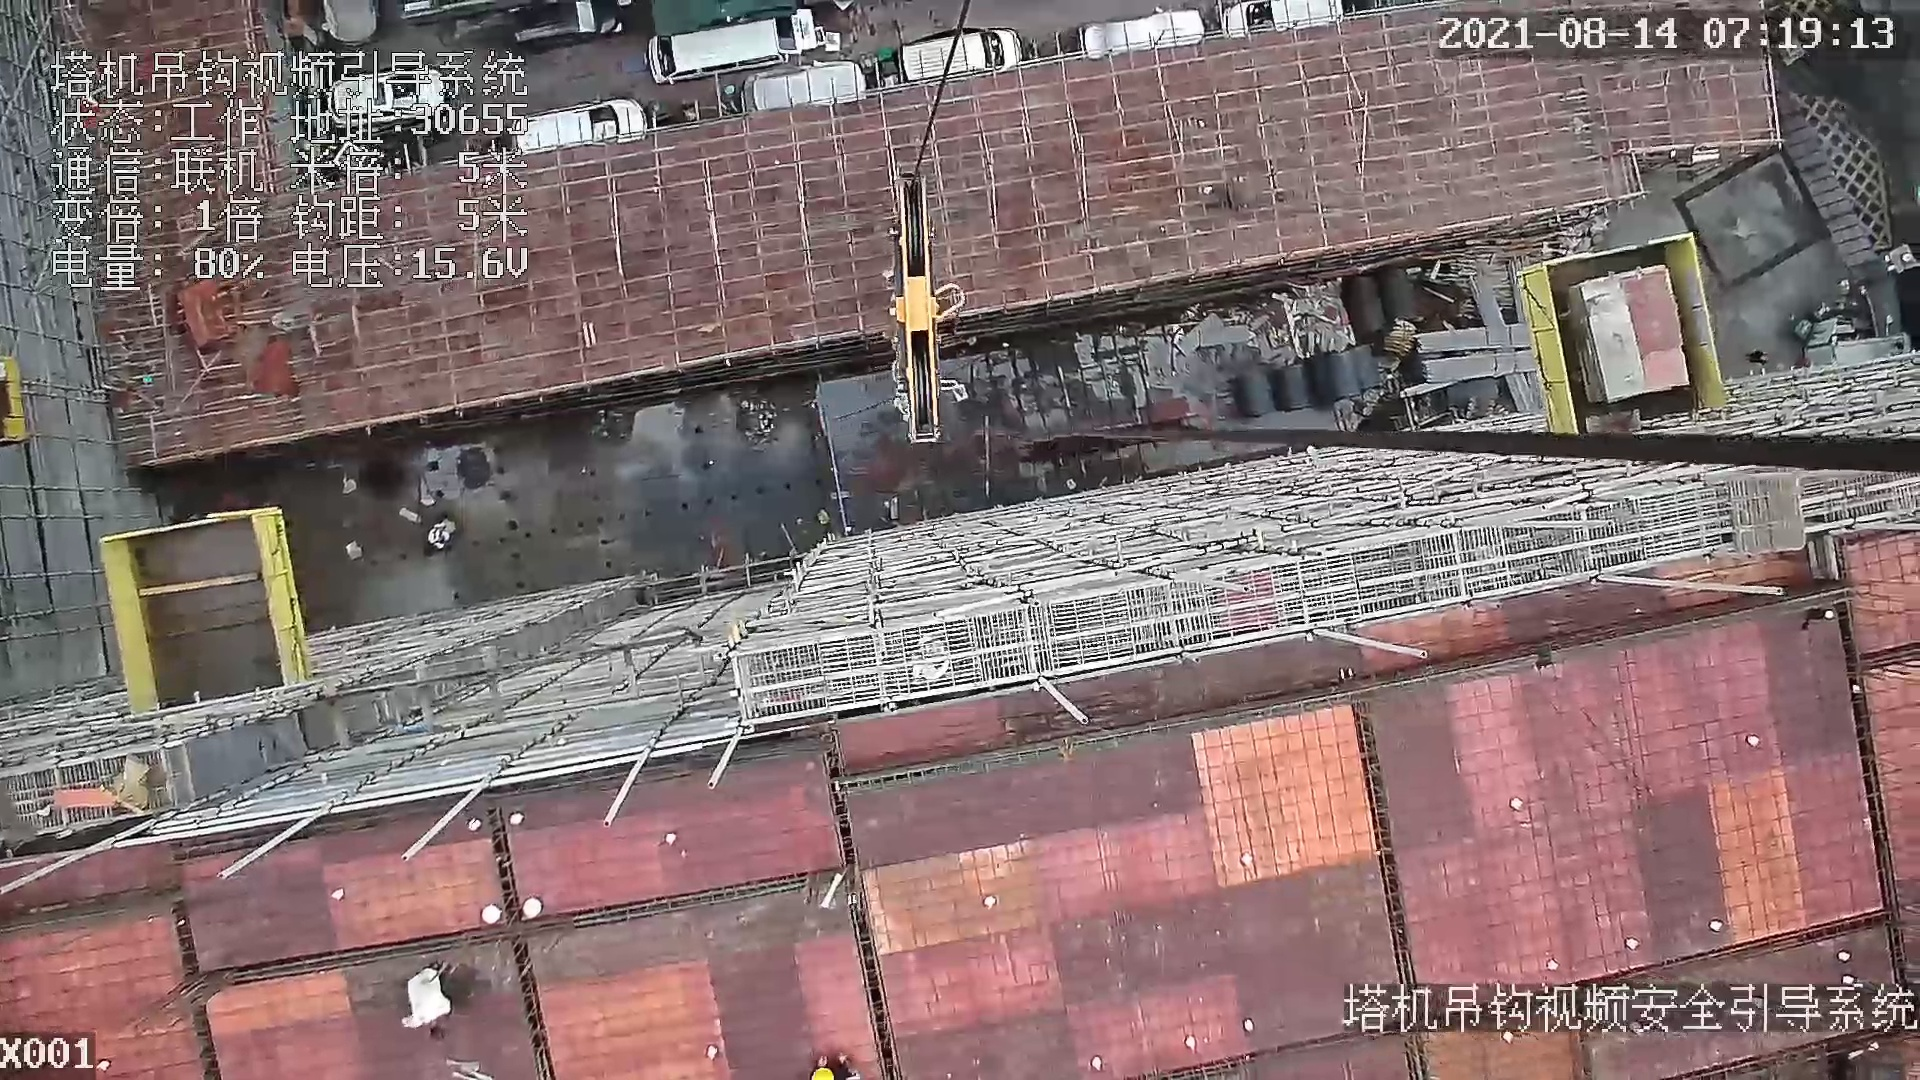hook: (881, 167, 976, 445)
person: (391, 969, 464, 1040)
